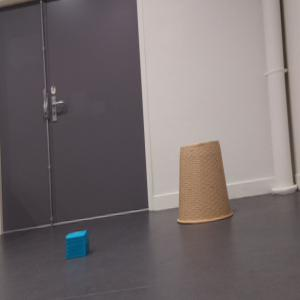medium: (177, 140, 235, 223)
small: (65, 230, 90, 258)
